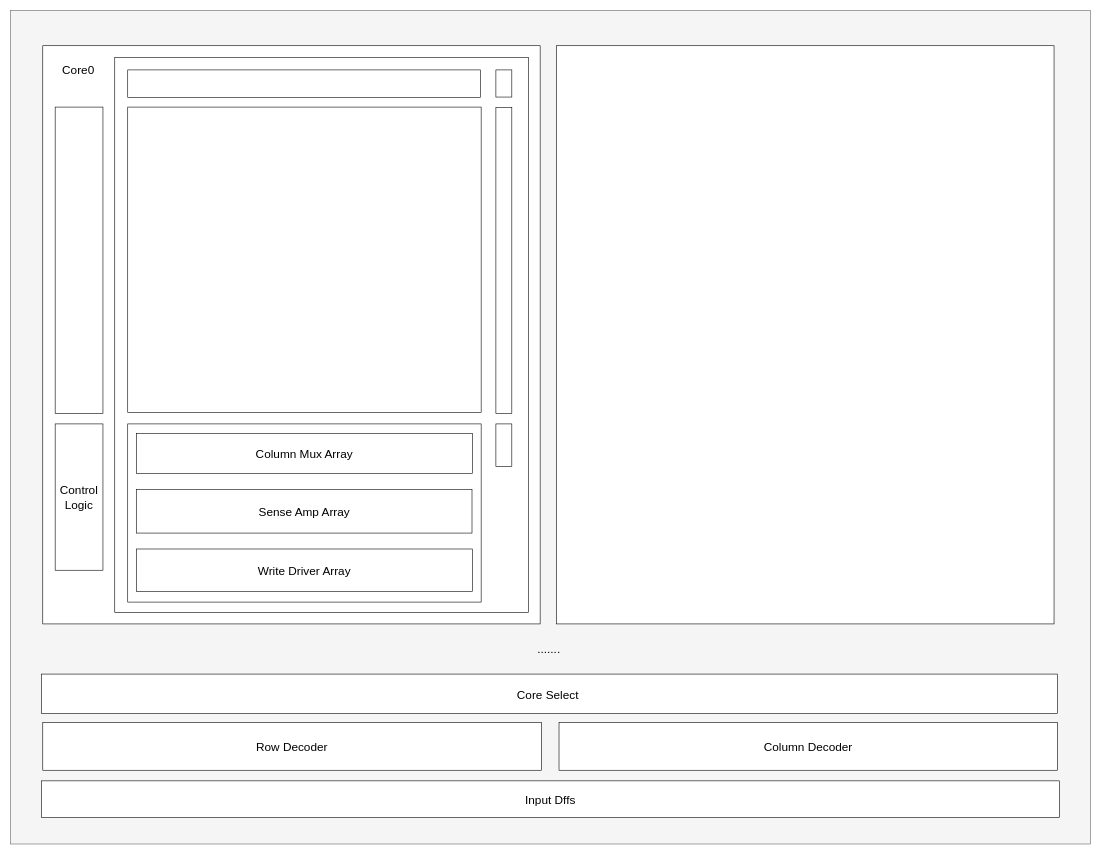
The diagram is 1101 pixels wide and 854 high, and some of its shapes have lost their labels. Here are the shapes that lost their labels. From the top down, the centre of each, then its label:
(x=304, y=83): Precharge Array
(x=79, y=259): And Array
(x=304, y=259): Bitcell Array
(x=805, y=334): Core1
